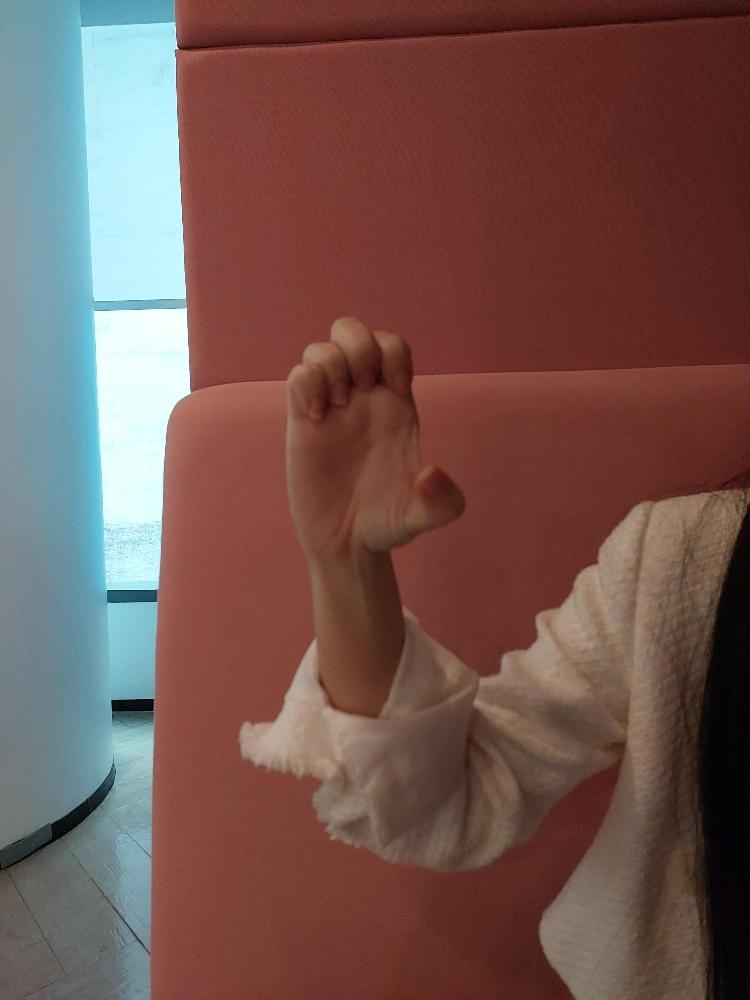e: (287, 313, 468, 551)
